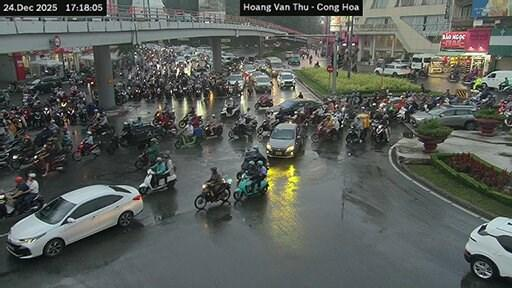motorbike: (137, 158, 176, 193), (194, 175, 230, 208), (0, 193, 42, 217), (236, 149, 268, 180), (233, 172, 268, 199), (71, 140, 99, 160), (176, 127, 201, 148), (227, 122, 253, 139), (310, 126, 336, 142), (9, 153, 34, 169), (134, 148, 153, 169), (86, 122, 114, 134), (134, 148, 150, 169), (179, 112, 201, 127), (256, 118, 277, 133), (202, 122, 223, 136), (48, 153, 64, 171), (220, 102, 239, 117), (105, 135, 120, 153), (253, 94, 272, 108), (374, 122, 387, 142), (346, 125, 358, 143), (32, 154, 44, 171), (0, 148, 10, 166), (153, 111, 163, 125), (504, 111, 511, 126), (447, 72, 457, 81), (166, 112, 175, 121), (159, 153, 169, 157), (12, 154, 13, 156)
